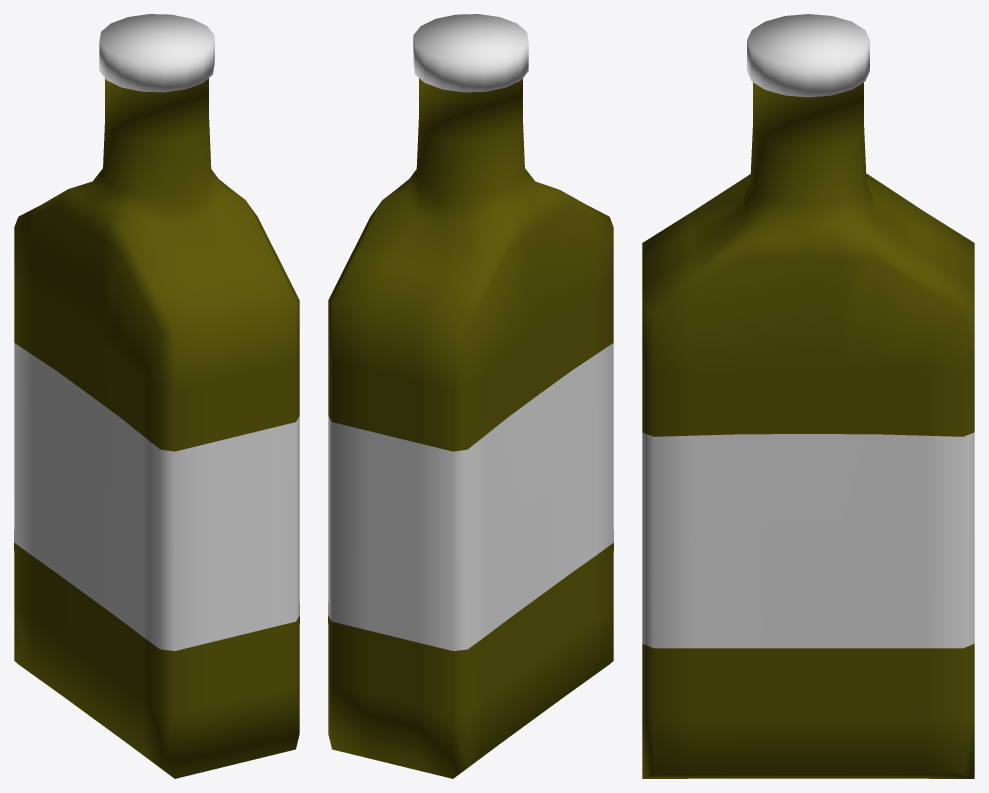
File: oiling.fbx
The picture shows the model from 3 angles, left to right: view 1: azimuth 30°, elevation 25°; view 2: azimuth 150°, elevation 25°; view 3: azimuth 270°, elevation 25°; orthographic projection. The views are drawn at different scales.
Visible parts, largest first — view 1: Vert; view 2: Vert; view 3: Vert.
Part boxes in pixels (left/top/right/bottom): Vert: left=14, top=14, right=299, bottom=778; Vert: left=328, top=14, right=613, bottom=778; Vert: left=642, top=14, right=974, bottom=778.
Size of the model in its own units: 0.4398 by 2.01 by 0.856.
